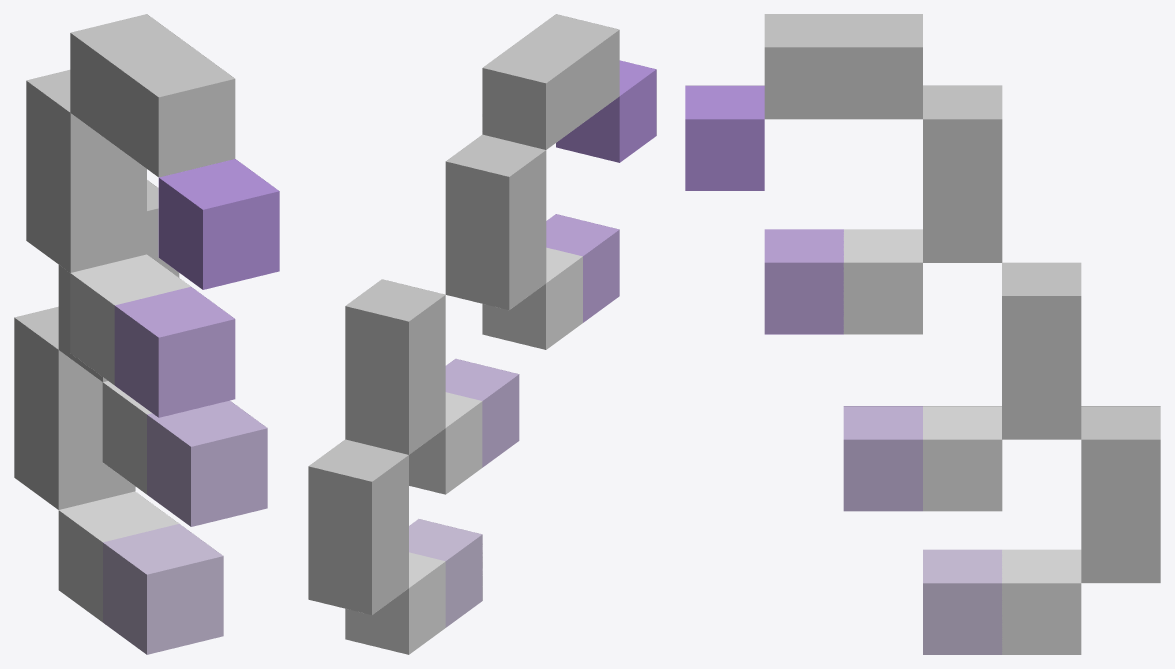
Rendered from Reaper Wings.obj.
3 views of the same model, side by side, from view 1: azimuth 30°, elevation 25°; view 2: azimuth 150°, elevation 25°; view 3: azimuth 270°, elevation 25° (orthographic). The views are drawn at different scales.
Visible parts, largest first — view 1: Reaper Wings; view 2: Reaper Wings; view 3: Reaper Wings.
Boxes of the visible parts, x1,y1,x2,y2 form: Reaper Wings: (14,14,279,654); Reaper Wings: (308,14,656,654); Reaper Wings: (685,14,1160,654).
Bounding box in the file's own units: 2 × 8 × 6.
1 material, 1 textured.
